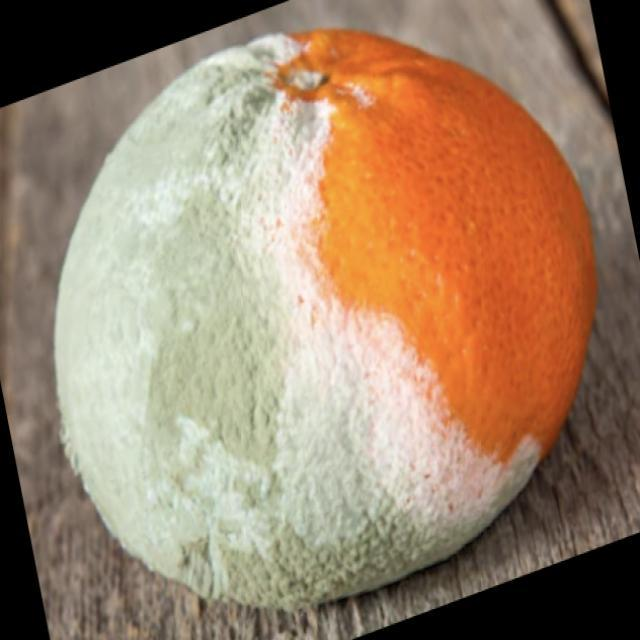sangat-busuk: (56, 29, 595, 609)
